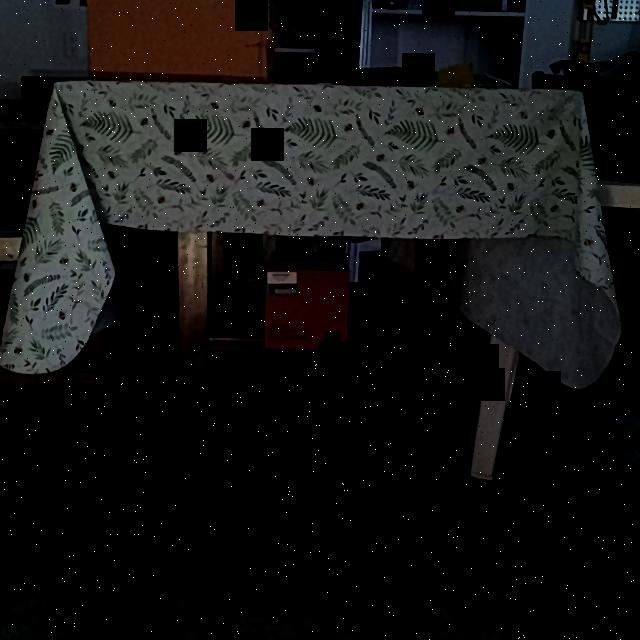box: (88, 0, 268, 81), (265, 271, 348, 351)
